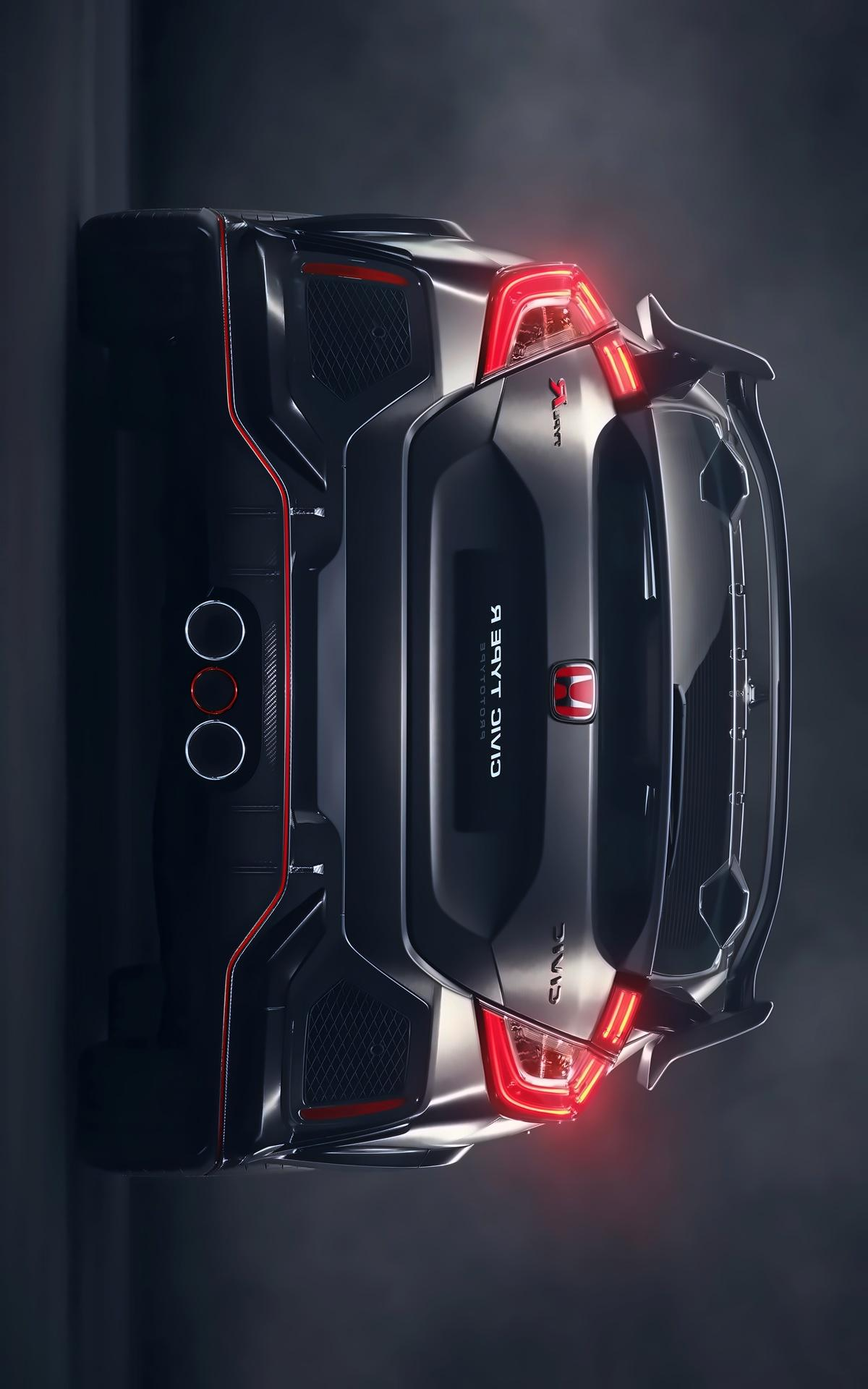Car boot: (396, 326, 681, 1061)
Rear bumper: (148, 189, 490, 1213)
Rear light - -L-: (475, 241, 654, 423)
Rear light - -R-: (474, 951, 658, 1153)
